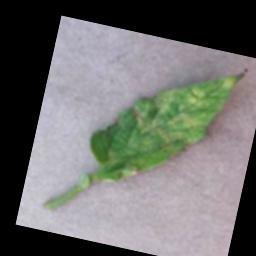Leaf_Mold: (136, 54, 243, 157)
